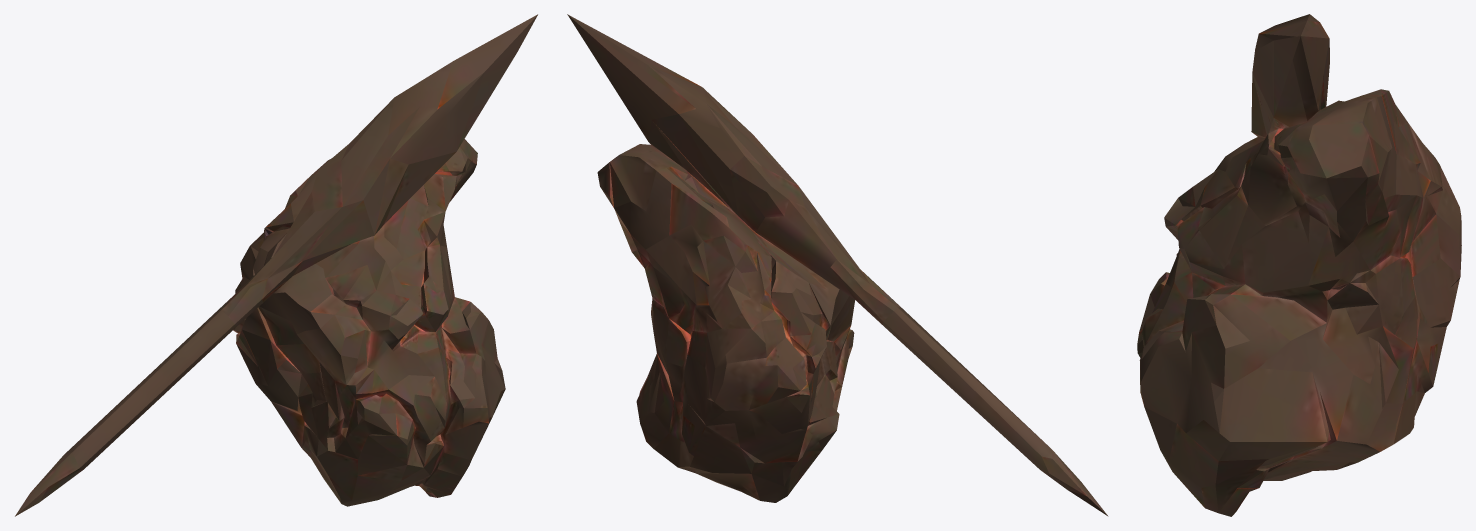
The model's file is fx_earth.glb.
The picture shows the model from 3 angles, left to right: view 1: azimuth 30°, elevation 25°; view 2: azimuth 150°, elevation 25°; view 3: azimuth 270°, elevation 25°; orthographic projection. The views are drawn at different scales.
Bounding box in the file's own units: 1.9 × 1.51 × 0.7758.
Materials: 1 (1 with a texture image).
